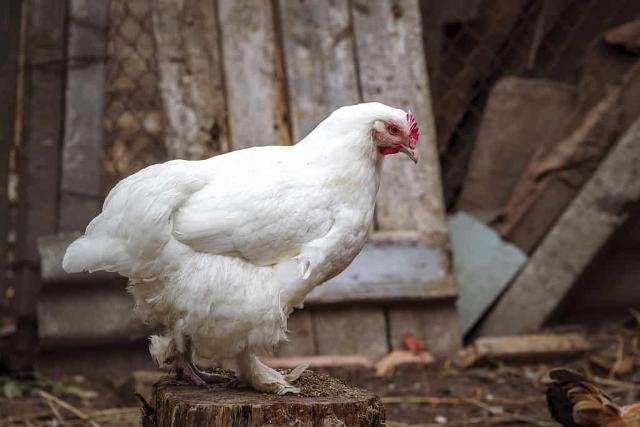Chicken: (61, 100, 420, 395)
